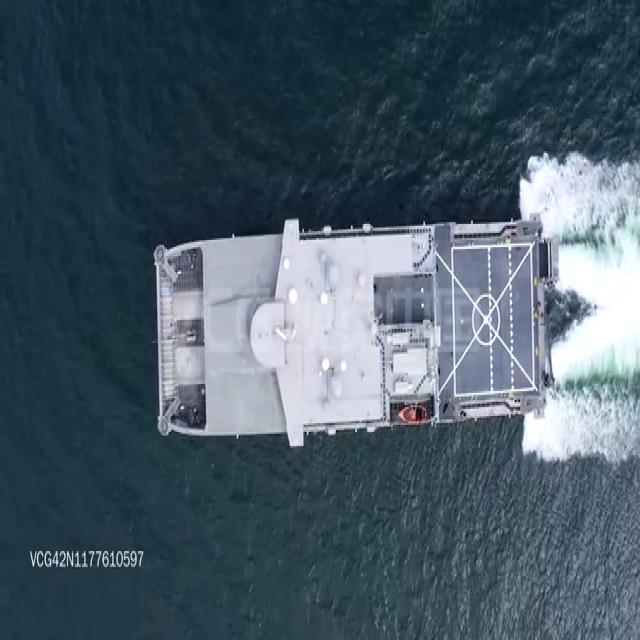navalvessels: (150, 212, 557, 442)
